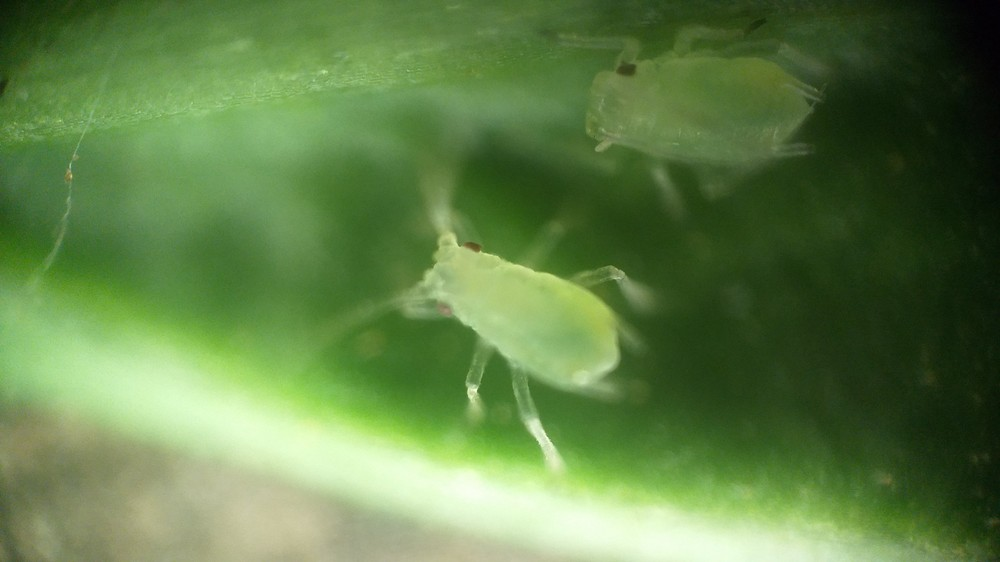Pulgon: (336, 167, 701, 499), (552, 17, 864, 239)
